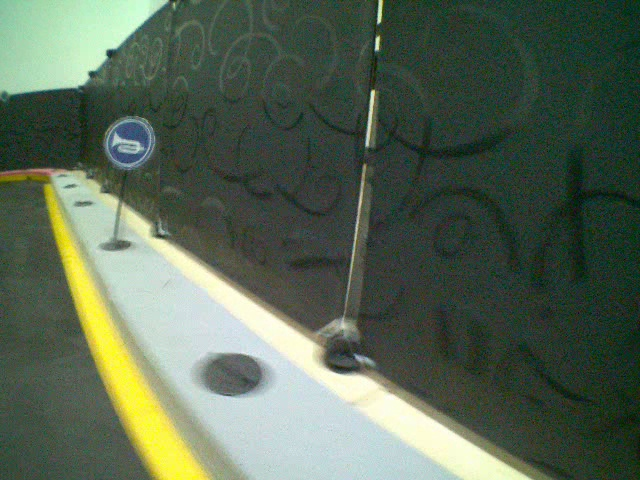horn: (103, 115, 156, 170)
